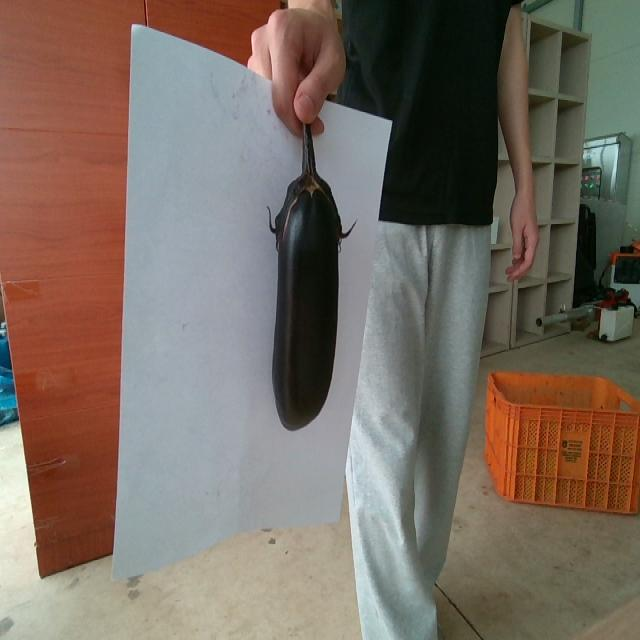Egg plant: (269, 125, 354, 429)
